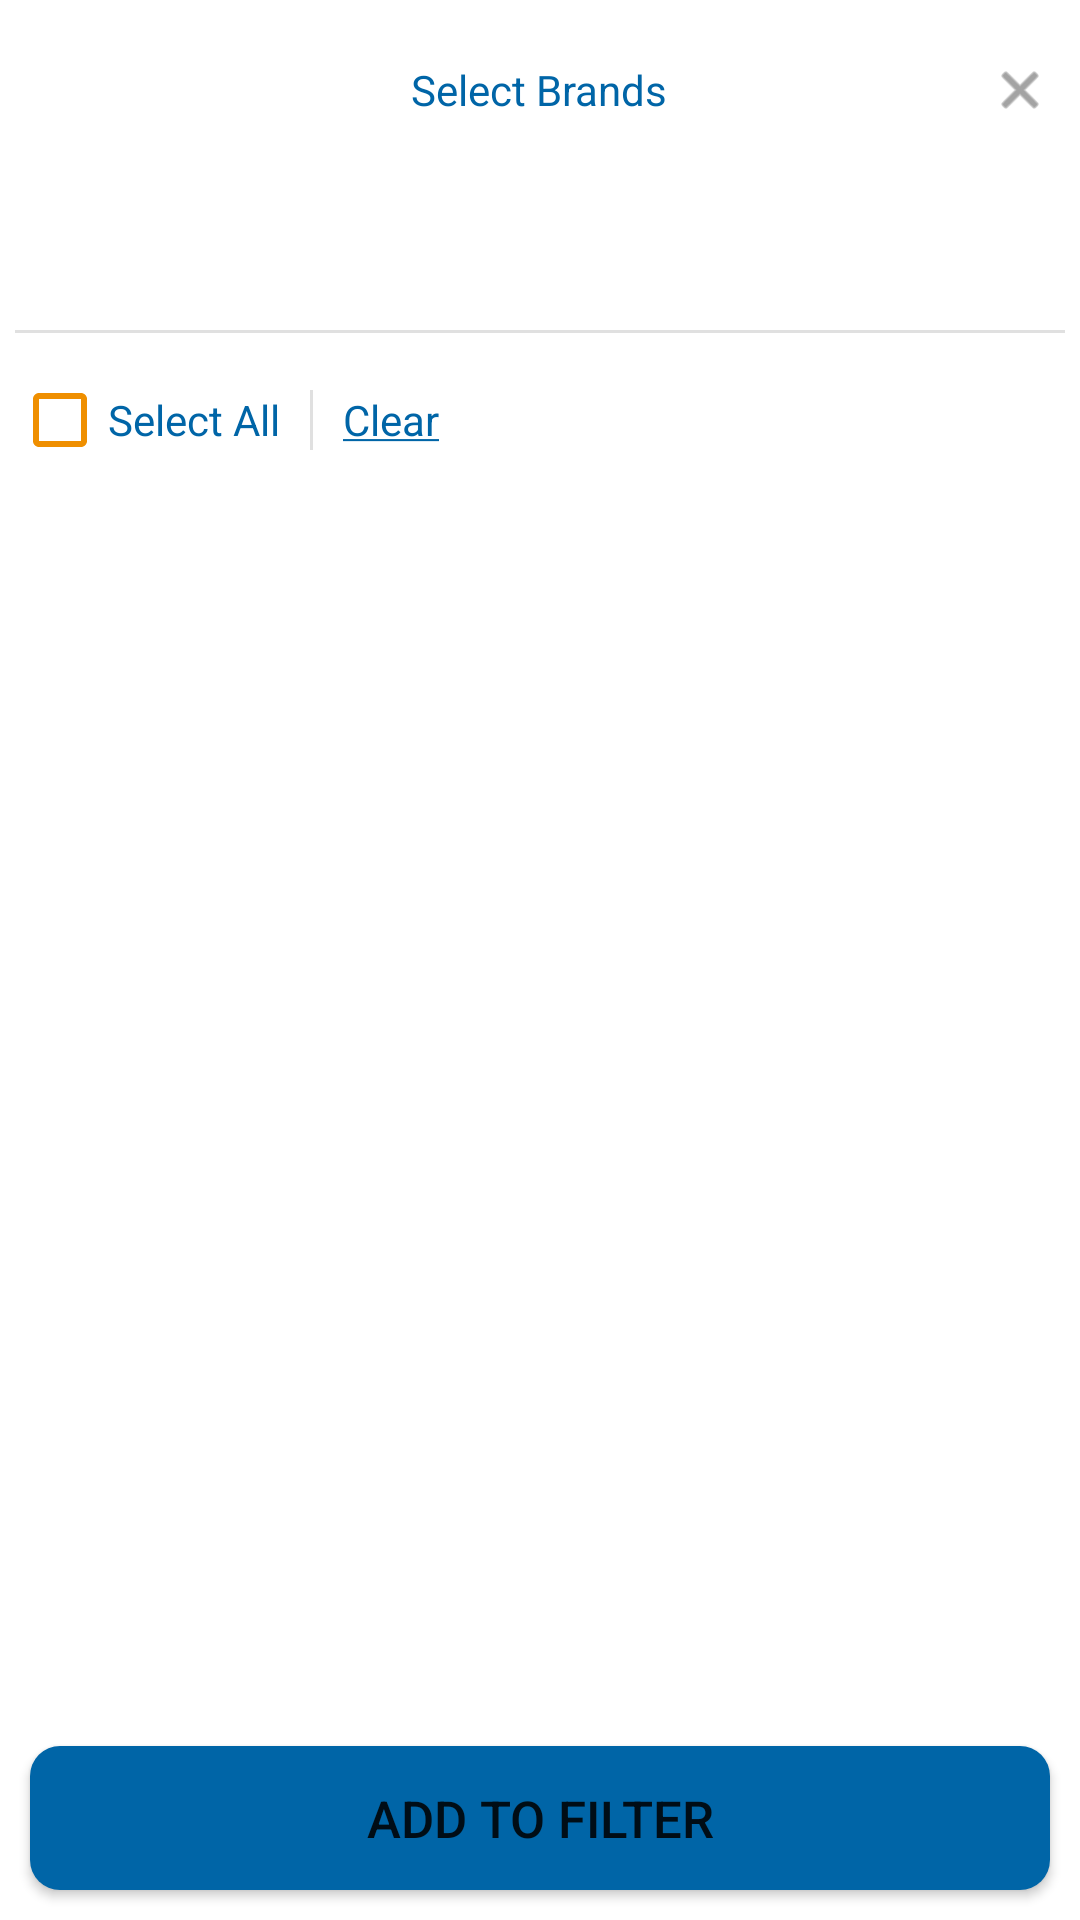

Locate icon controls on the screen. Image size 1080×1920, boxes as {"left": x1, "top": y1, "right": x2, "bottom": y2}.
close clear cancel: {"left": 1001, "top": 71, "right": 1039, "bottom": 109}
